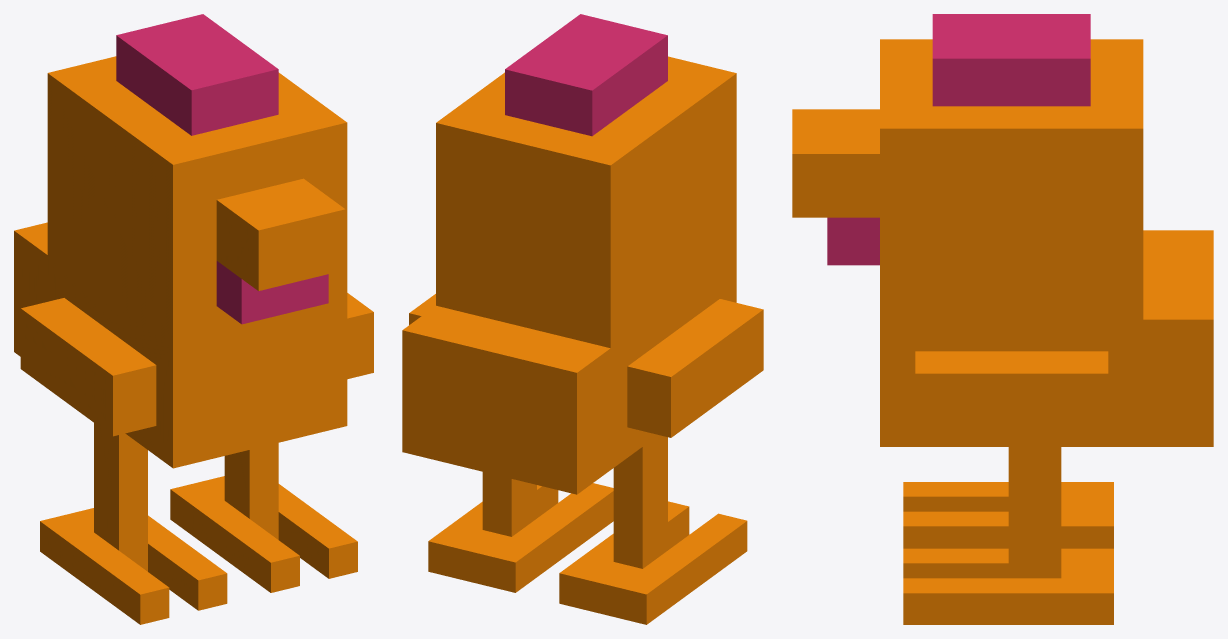
The model's file is Chicken.fbx.
3 views of the same model, side by side, from view 1: azimuth 30°, elevation 25°; view 2: azimuth 150°, elevation 25°; view 3: azimuth 270°, elevation 25° (orthographic). The views are drawn at different scales.
Parts seen in each view (by area): view 1: Chicken; view 2: Chicken; view 3: Chicken.
Part boxes in pixels (<box>): Chicken: <box>14,14,373,624</box>; Chicken: <box>402,14,763,624</box>; Chicken: <box>792,14,1213,624</box>.
Size of the model in its own units: 90 by 167 by 120.
